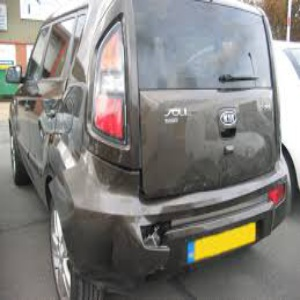bumper: (81, 227, 173, 292)
